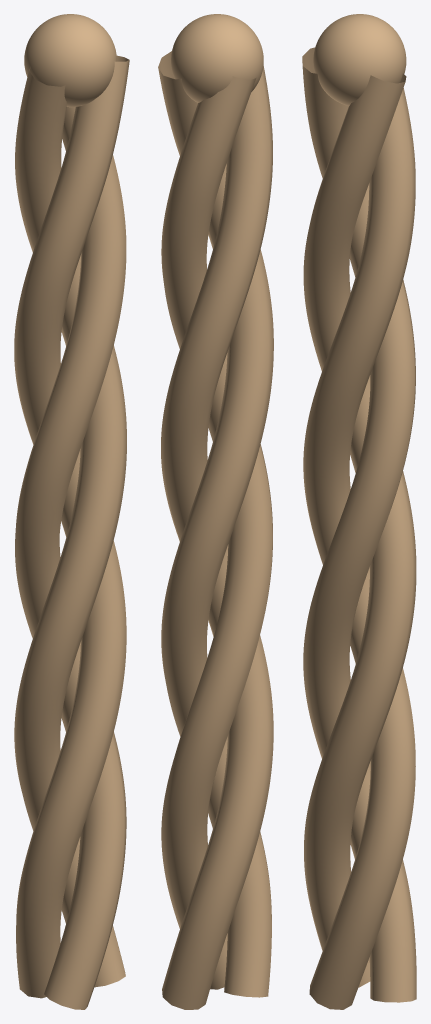
File: cucharilla_c.glb
The picture shows the model from 3 angles, left to right: view 1: azimuth 30°, elevation 25°; view 2: azimuth 210°, elevation 25°; view 3: azimuth 330°, elevation 25°; orthographic projection.
Parts seen in each view (by area): view 1: hilo1, hilo2, hilo0, Sphere.001; view 2: hilo0, hilo2, hilo1, Sphere.001; view 3: hilo2, hilo1, hilo0, Sphere.001.
Boxes of the visible parts, x1,y1,x2,y2 form: hilo1: (14, 55, 129, 998); hilo2: (15, 107, 126, 1009); hilo0: (14, 67, 126, 987); Sphere.001: (24, 14, 116, 107); hilo0: (161, 66, 273, 1009); hilo2: (161, 76, 272, 989); hilo1: (158, 51, 273, 997); Sphere.001: (171, 14, 263, 102); hilo2: (303, 88, 415, 1009); hilo1: (303, 73, 416, 987); hilo0: (302, 47, 416, 1002); Sphere.001: (313, 14, 406, 105).
Bounding box in the file's own units: 0.0217 × 0.1949 × 0.0178.
